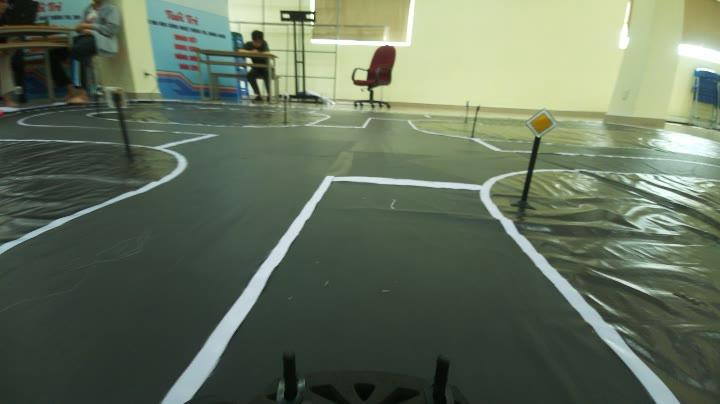priority: (519, 108, 562, 140)
